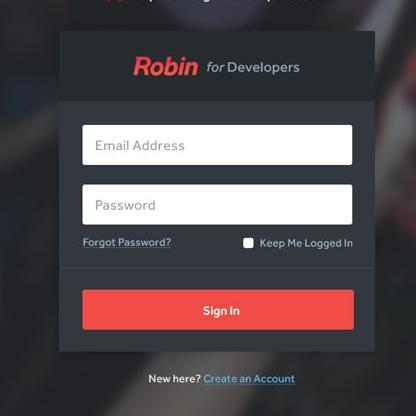button: (81, 289, 355, 331)
checkbox: (242, 238, 256, 249)
checkbox_with_label: (242, 237, 354, 251)
field: (80, 183, 353, 227), (80, 124, 353, 166)
